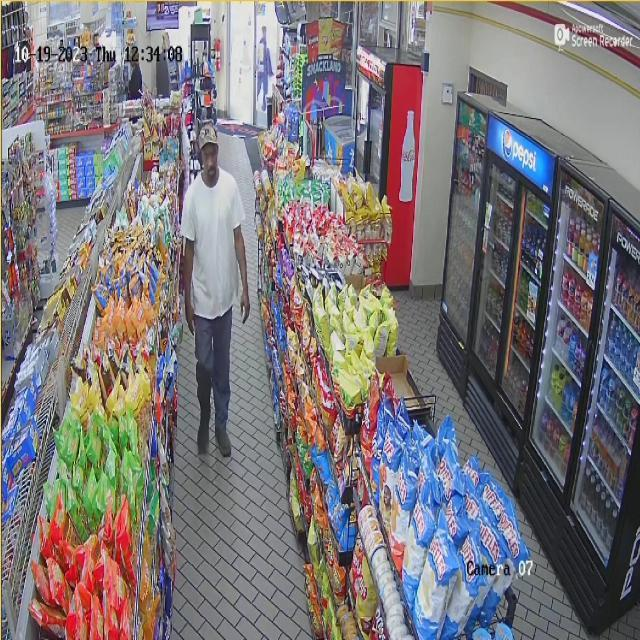Normal: (177, 111, 254, 465)
